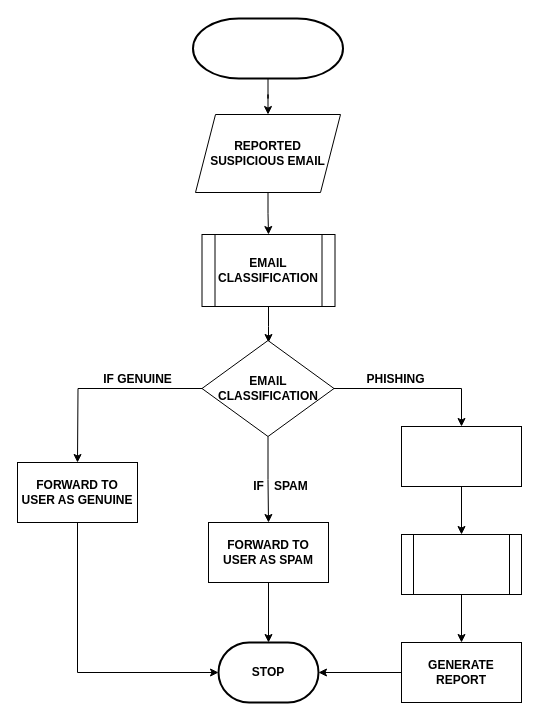
This 539x720 diagram has some shape labels left out. Here are the shapes that lost their labels. From the top down, the centre of each, then its label:
At point (268, 48): "START".
At point (461, 456): "FORWARD TO USER AS MALICIOUS".
At point (461, 564): "CHECK FOR PHISHING VECTORS".
